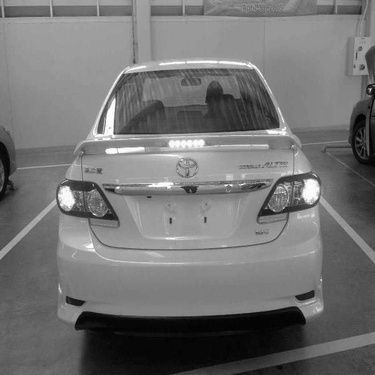car: (38, 46, 332, 337), (338, 70, 370, 172), (1, 116, 21, 209)
